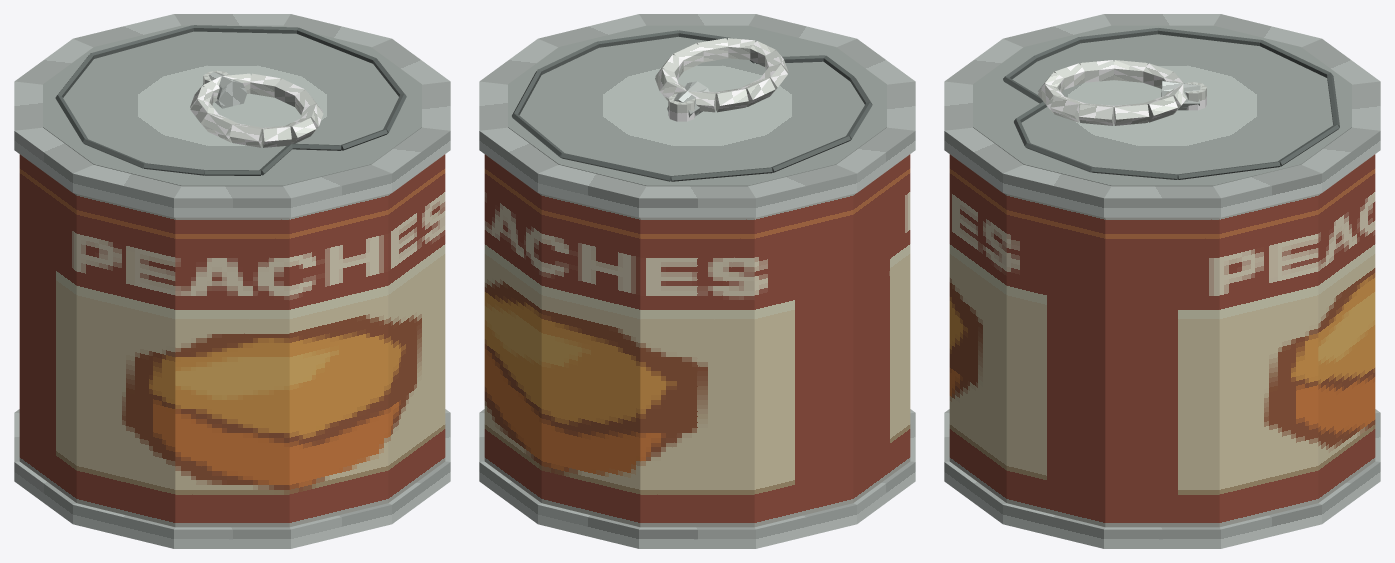
File: can_peach.glb
3 views of the same model, side by side, from view 1: azimuth 30°, elevation 25°; view 2: azimuth 150°, elevation 25°; view 3: azimuth 270°, elevation 25° (orthographic).
Parts seen in each view (by area): view 1: block_illustrated wraparound can label, block_recessed easy-open panel, block_rolled steel top, block_rolled steel base, block_pull tab hinge, block_scored lid opening 3, block_scored lid opening 4, block_raised metal pull ring 4, block_raised metal pull ring 3, block_scored lid opening 5, block_raised metal pull ring 5, block_raised metal pull ring 10; view 2: block_illustrated wraparound can label, block_recessed easy-open panel, block_rolled steel top, block_rolled steel base, block_scored lid opening 3, block_raised metal pull ring 7, block_scored lid opening 2, block_raised metal pull ring 6, block_scored lid opening 7, block_pull tab rivet, block_raised metal pull ring 1, block_scored lid opening 1; view 3: block_illustrated wraparound can label, block_recessed easy-open panel, block_rolled steel top, block_rolled steel base, block_scored lid opening 1, block_raised metal pull ring 0, block_raised metal pull ring 11, block_scored lid opening 5, block_raised metal pull ring 5, block_raised metal pull ring 6, block_raised metal pull ring 10, block_raised metal pull ring 1 (+3 smaller).
Boxes of the visible parts, x1=… form: block_illustrated wraparound can label: x1=19, y1=154, x2=445, y2=527; block_recessed easy-open panel: x1=43, y1=25, x2=421, y2=186; block_rolled steel top: x1=14, y1=14, x2=450, y2=217; block_rolled steel base: x1=14, y1=409, x2=450, y2=548; block_pull tab hinge: x1=203, y1=72, x2=247, y2=108; block_scored lid opening 3: x1=91, y1=25, x2=193, y2=58; block_scored lid opening 4: x1=193, y1=25, x2=298, y2=33; block_raised metal pull ring 4: x1=229, y1=123, x2=262, y2=147; block_raised metal pull ring 3: x1=262, y1=126, x2=291, y2=147; block_scored lid opening 5: x1=297, y1=27, x2=376, y2=63; block_raised metal pull ring 5: x1=203, y1=113, x2=237, y2=142; block_raised metal pull ring 10: x1=250, y1=73, x2=281, y2=97; block_illustrated wraparound can label: x1=484, y1=154, x2=910, y2=527; block_recessed easy-open panel: x1=508, y1=25, x2=886, y2=186; block_rolled steel top: x1=479, y1=14, x2=915, y2=217; block_rolled steel base: x1=479, y1=409, x2=915, y2=548; block_scored lid opening 3: x1=561, y1=153, x2=670, y2=181; block_raised metal pull ring 7: x1=715, y1=88, x2=748, y2=112; block_scored lid opening 2: x1=671, y1=167, x2=772, y2=181; block_raised metal pull ring 6: x1=740, y1=78, x2=775, y2=106; block_scored lid opening 7: x1=597, y1=30, x2=678, y2=47; block_pull tab rivet: x1=668, y1=94, x2=695, y2=121; block_raised metal pull ring 1: x1=697, y1=38, x2=728, y2=62; block_scored lid opening 1: x1=771, y1=136, x2=850, y2=172; block_illustrated wraparound can label: x1=949, y1=154, x2=1375, y2=527; block_recessed easy-open panel: x1=973, y1=25, x2=1351, y2=186; block_rolled steel top: x1=944, y1=14, x2=1380, y2=217; block_rolled steel base: x1=944, y1=409, x2=1380, y2=548; block_scored lid opening 1: x1=1158, y1=28, x2=1261, y2=45; block_raised metal pull ring 0: x1=1078, y1=103, x2=1113, y2=125; block_raised metal pull ring 11: x1=1114, y1=103, x2=1149, y2=125; block_scored lid opening 5: x1=1178, y1=161, x2=1280, y2=179; block_raised metal pull ring 5: x1=1080, y1=60, x2=1113, y2=82; block_raised metal pull ring 6: x1=1114, y1=60, x2=1147, y2=82; block_raised metal pull ring 10: x1=1143, y1=96, x2=1177, y2=122; block_raised metal pull ring 1: x1=1050, y1=96, x2=1084, y2=122.
Bounding box in the file's own units: 0.084 × 0.0798 × 0.084.
Materials: 1 (1 with a texture image).
